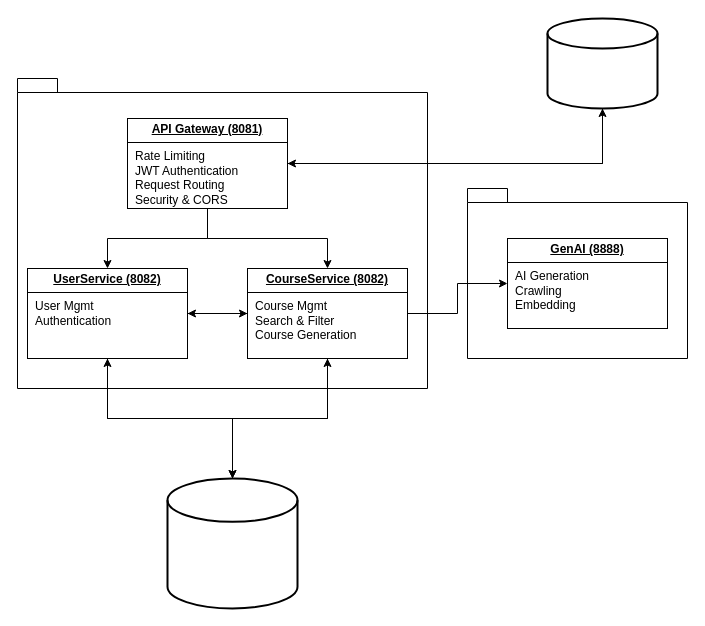
The diagram is 705 pixels wide and 626 high, and some of its shapes have lost their labels. Each missing label, with the centre of its shape:
MongoDB User Collections Course Collections: the point at 232,543
Redis: the point at 602,63
